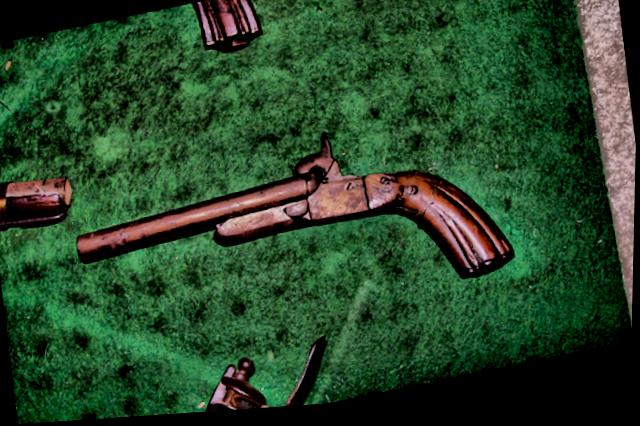pistol: (61, 101, 518, 360)
